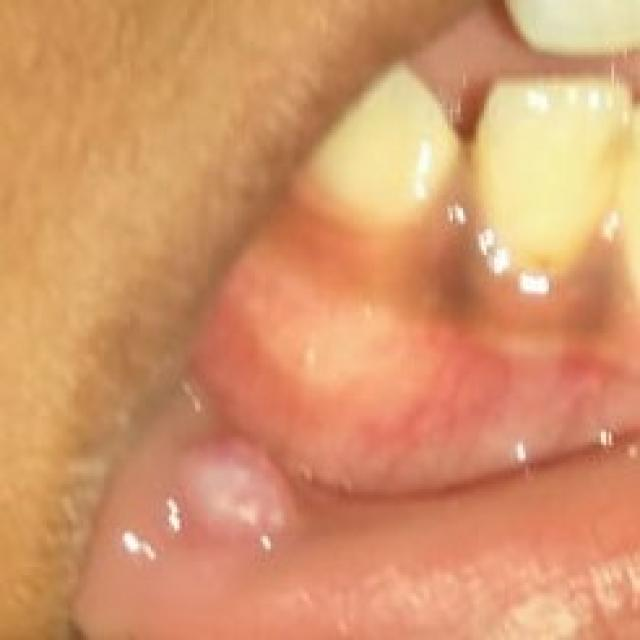Cancer: (160, 396, 360, 580)
